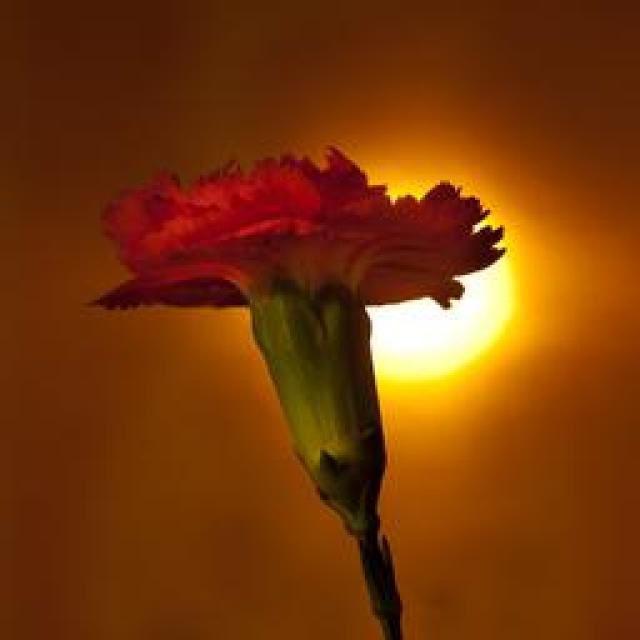carnation: (69, 139, 525, 394)
